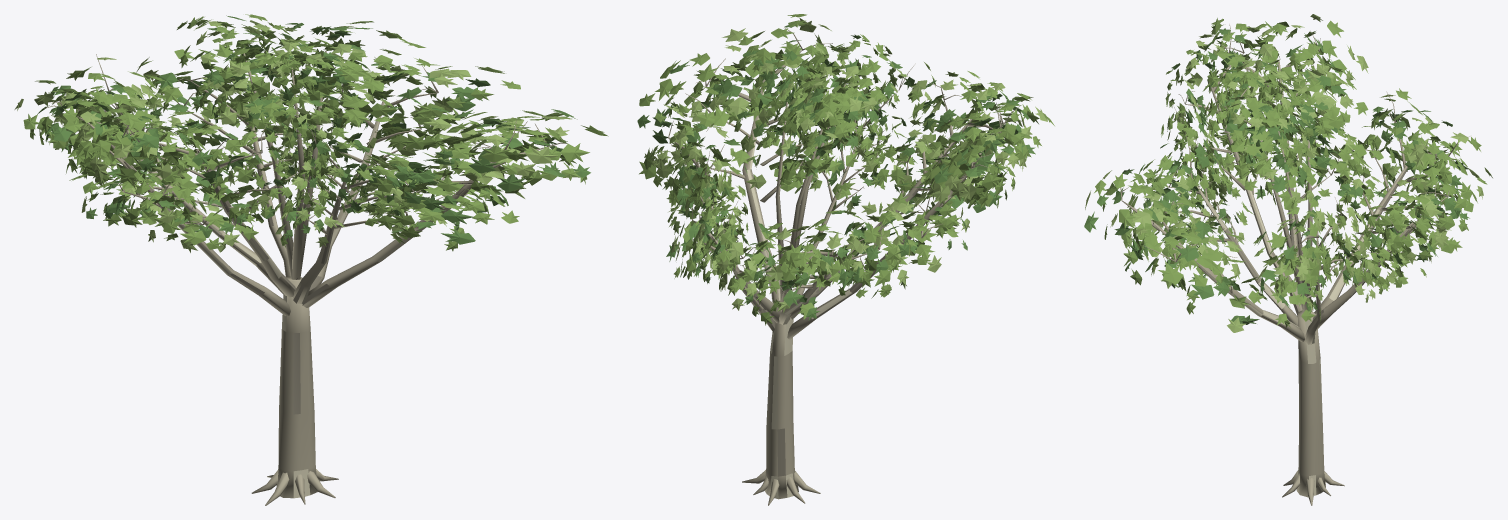
3 views of the same model, side by side, from view 1: azimuth 30°, elevation 25°; view 2: azimuth 150°, elevation 25°; view 3: azimuth 270°, elevation 25° (orthographic). The views are drawn at different scales.
Visible parts, largest first — view 1: tree_plane_c_PlaneLeaf, tree_plane_c_PlaneBark, tree_plane_c_PlaneLeafDark, tree_plane_c_PlaneLeafLight, tree_plane_c_PlaneBarkPale, tree_plane_c_PlaneBarkBrown; view 2: tree_plane_c_PlaneLeaf, tree_plane_c_PlaneLeafLight, tree_plane_c_PlaneLeafDark, tree_plane_c_PlaneBark, tree_plane_c_PlaneBarkPale, tree_plane_c_PlaneBarkBrown; view 3: tree_plane_c_PlaneLeaf, tree_plane_c_PlaneLeafDark, tree_plane_c_PlaneLeafLight, tree_plane_c_PlaneBark, tree_plane_c_PlaneBarkPale, tree_plane_c_PlaneBarkBrown.
Boxes of the visible parts, x1=… form: tree_plane_c_PlaneLeaf: x1=23, y1=14, x2=608, y2=251; tree_plane_c_PlaneBark: x1=43, y1=51, x2=565, y2=505; tree_plane_c_PlaneLeafDark: x1=37, y1=15, x2=590, y2=244; tree_plane_c_PlaneLeafLight: x1=14, y1=20, x2=571, y2=252; tree_plane_c_PlaneBarkPale: x1=115, y1=101, x2=490, y2=498; tree_plane_c_PlaneBarkBrown: x1=113, y1=145, x2=332, y2=414; tree_plane_c_PlaneLeaf: x1=639, y1=14, x2=1054, y2=325; tree_plane_c_PlaneLeafLight: x1=647, y1=18, x2=1047, y2=312; tree_plane_c_PlaneLeafDark: x1=637, y1=25, x2=1035, y2=320; tree_plane_c_PlaneBark: x1=668, y1=27, x2=1021, y2=505; tree_plane_c_PlaneBarkPale: x1=697, y1=91, x2=914, y2=499; tree_plane_c_PlaneBarkBrown: x1=712, y1=119, x2=972, y2=476; tree_plane_c_PlaneLeaf: x1=1094, y1=18, x2=1492, y2=327; tree_plane_c_PlaneLeafDark: x1=1084, y1=25, x2=1469, y2=326; tree_plane_c_PlaneLeafLight: x1=1085, y1=14, x2=1483, y2=332; tree_plane_c_PlaneBark: x1=1118, y1=24, x2=1470, y2=505; tree_plane_c_PlaneBarkPale: x1=1153, y1=61, x2=1412, y2=495; tree_plane_c_PlaneBarkBrown: x1=1208, y1=64, x2=1407, y2=321.
Size of the model in its own units: 14.59 by 13.84 by 12.82.
